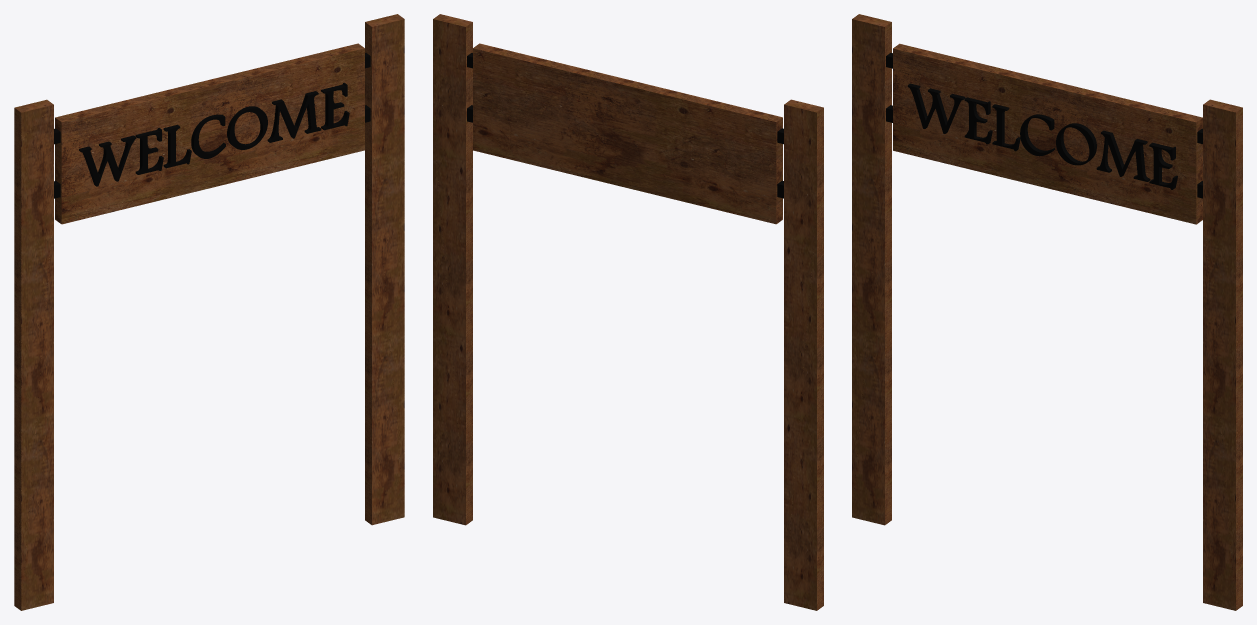
The model's file is fbxWelcome.fbx.
3 renders of one model, left to right at view 1: azimuth 30°, elevation 25°; view 2: azimuth 150°, elevation 25°; view 3: azimuth 330°, elevation 25°, orthographic.
Parts seen in each view (by area): view 1: poster, welcome; view 2: poster; view 3: poster, welcome.
Part boxes in pixels (<box>): poster: <box>14,14,404,610</box>; welcome: <box>79,82,349,186</box>; poster: <box>433,14,823,610</box>; poster: <box>852,14,1242,610</box>; welcome: <box>907,83,1177,189</box>.
Size of the model in its own units: 8.82 by 10.95 by 0.3984.
Materials: 2 (1 with a texture image).
